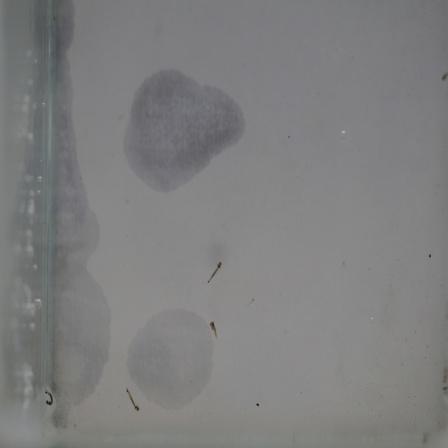Jentik-Nyamuk: (119, 384, 145, 416), (206, 258, 224, 289), (207, 317, 225, 346), (43, 385, 59, 411)
